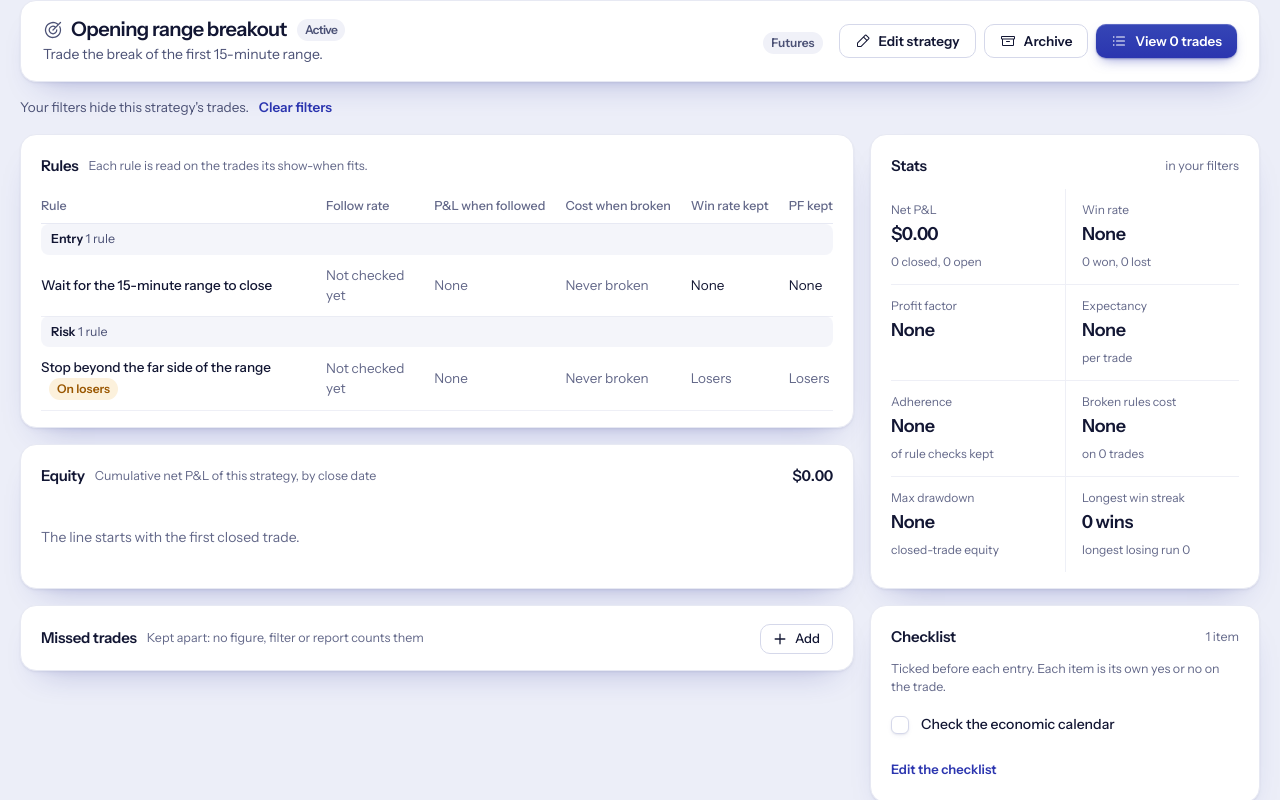
Test: with no trade in the filters it says the filters hide them, and Clear filters brings them back
Check: the text "Your filters hide this strategy's trades." is shown, box [20,98,249,118]
Click the button "Clear filters" at (296, 108), box [259,98,332,118]
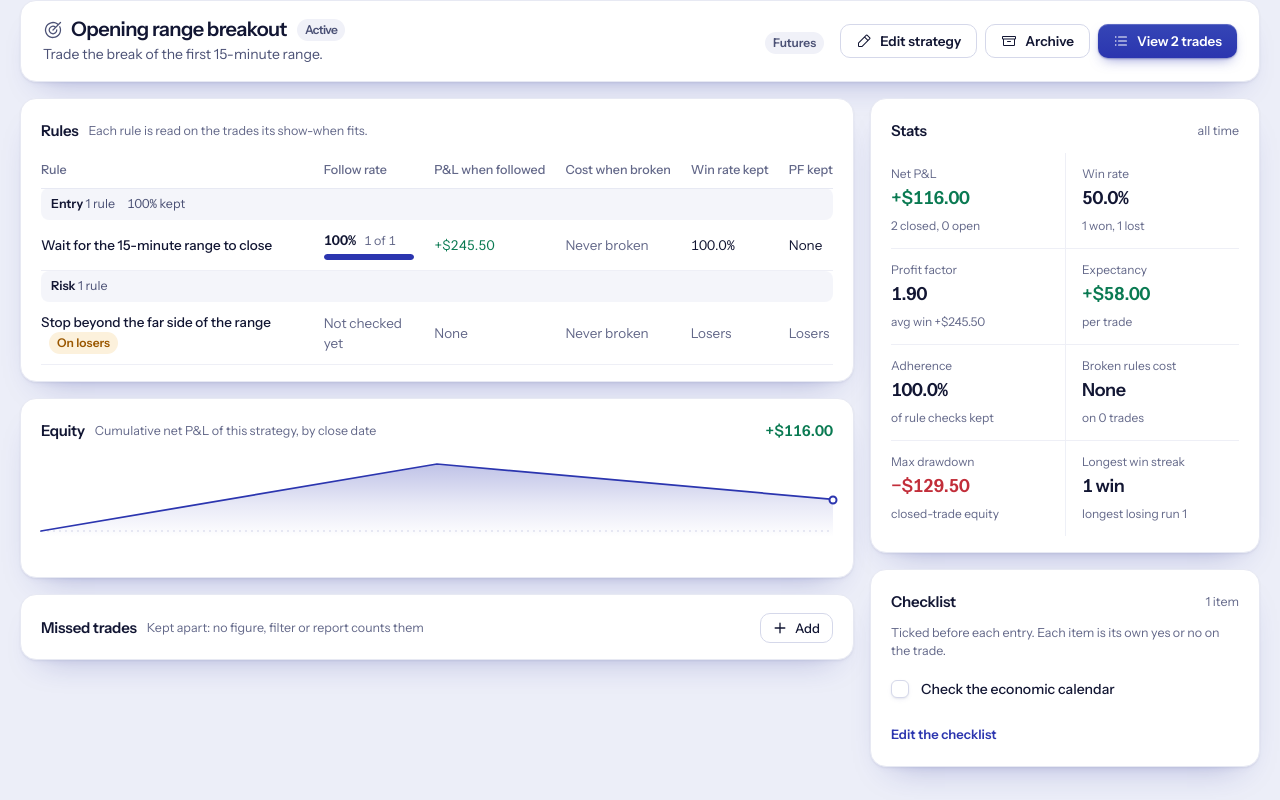
Check: the link "View 2 trades" is shown, box [1098,24,1237,58]
